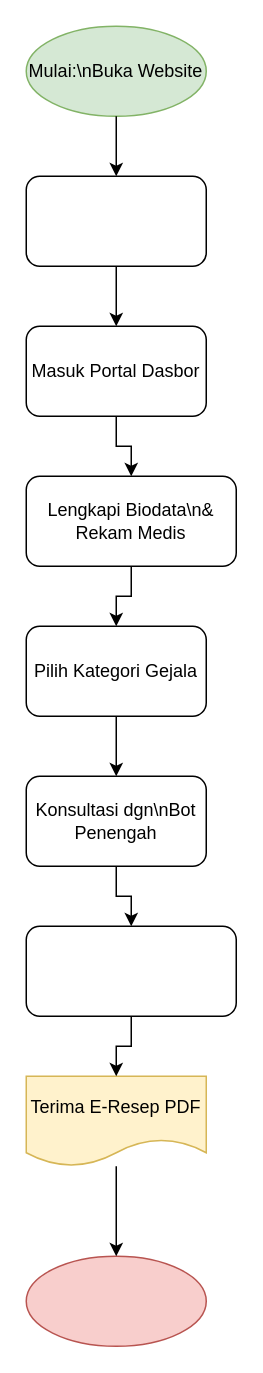
Image size: 263x1373. Some labels were removed from this diagram. The shapes that lost their labels are listed below. From the top down, each one's box as (x1, y1, x2, y2) in pixels, then its label:
(25, 175, 206, 266): Registrasi / Login
(25, 925, 236, 1016): Chat dgn Bot\nDokter Spesialis
(25, 1255, 206, 1346): Selesai:\nTebus Resep di Apotek
